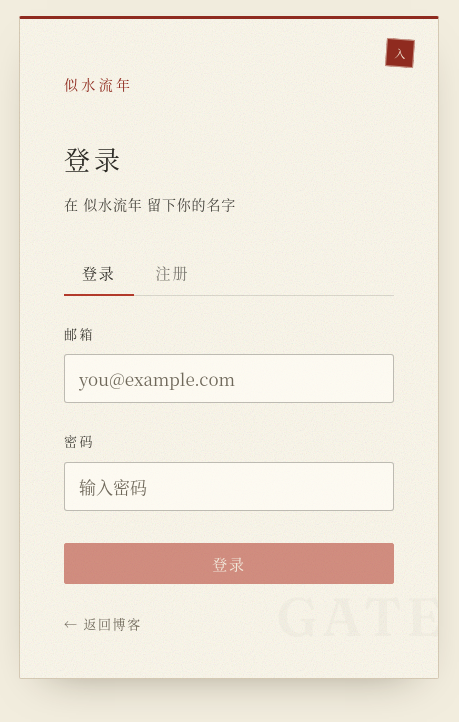
Test case: public form feedback › ignores a completed login after the user switches to register mode
Type "traveler@example.com" into the field labelled "邮箱" at {"x": 229, "y": 379}, box [64,354,394,403]
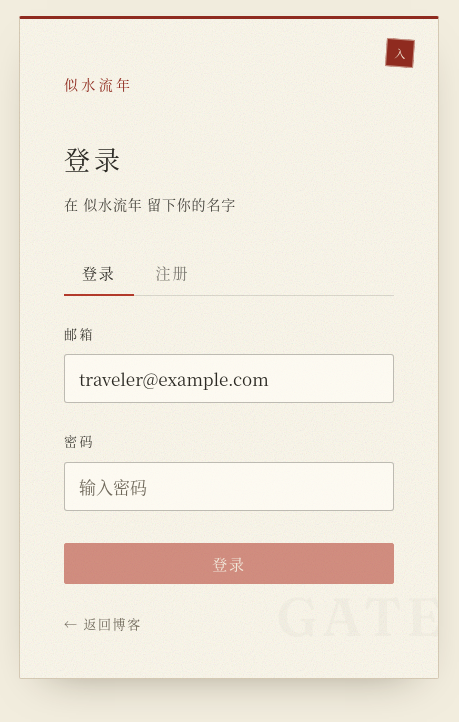
Type "mistake" into the password field labelled "密码" at {"x": 229, "y": 487}, box [64,462,394,511]
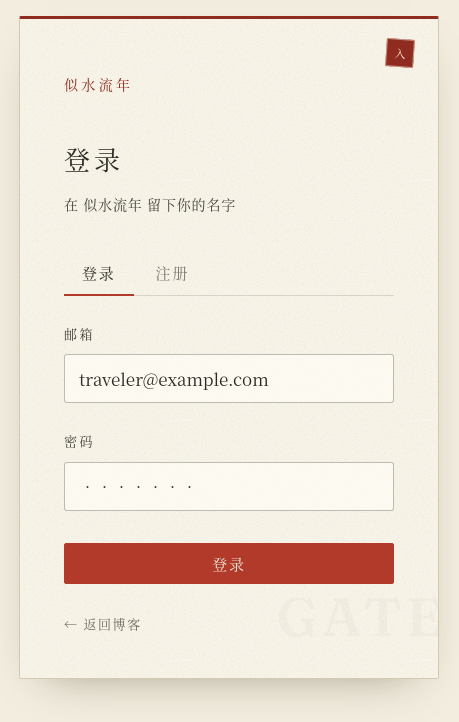
Click the button "登录" at {"x": 229, "y": 564}, box [64,543,394,584]
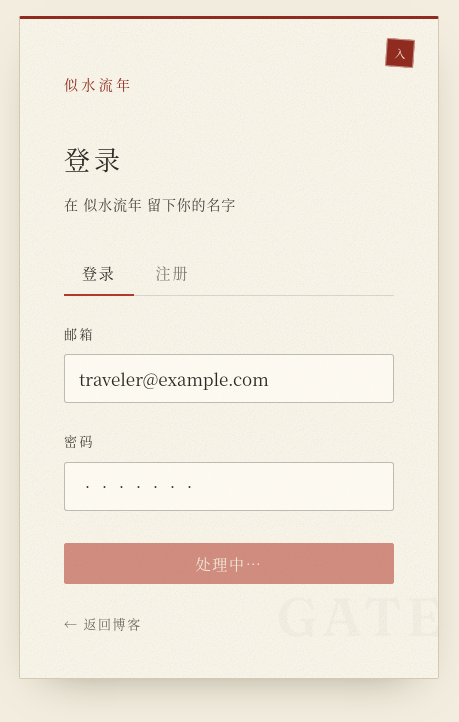
Click the tab "注册" at {"x": 172, "y": 274}, box [138,252,207,296]
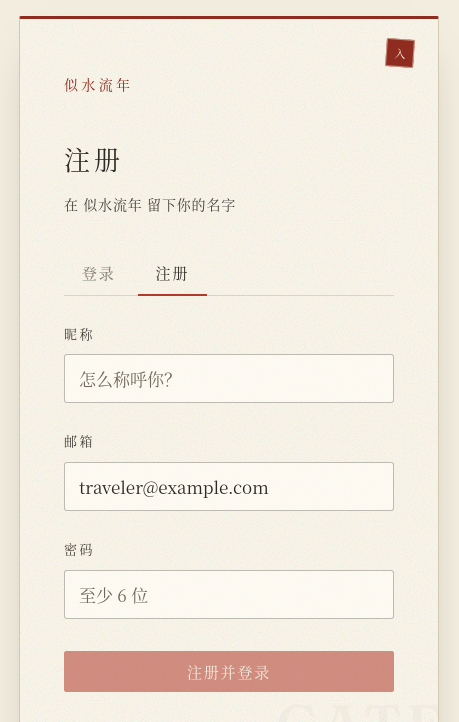
Check: the heading "注册" is shown, box [64,140,124,177]
